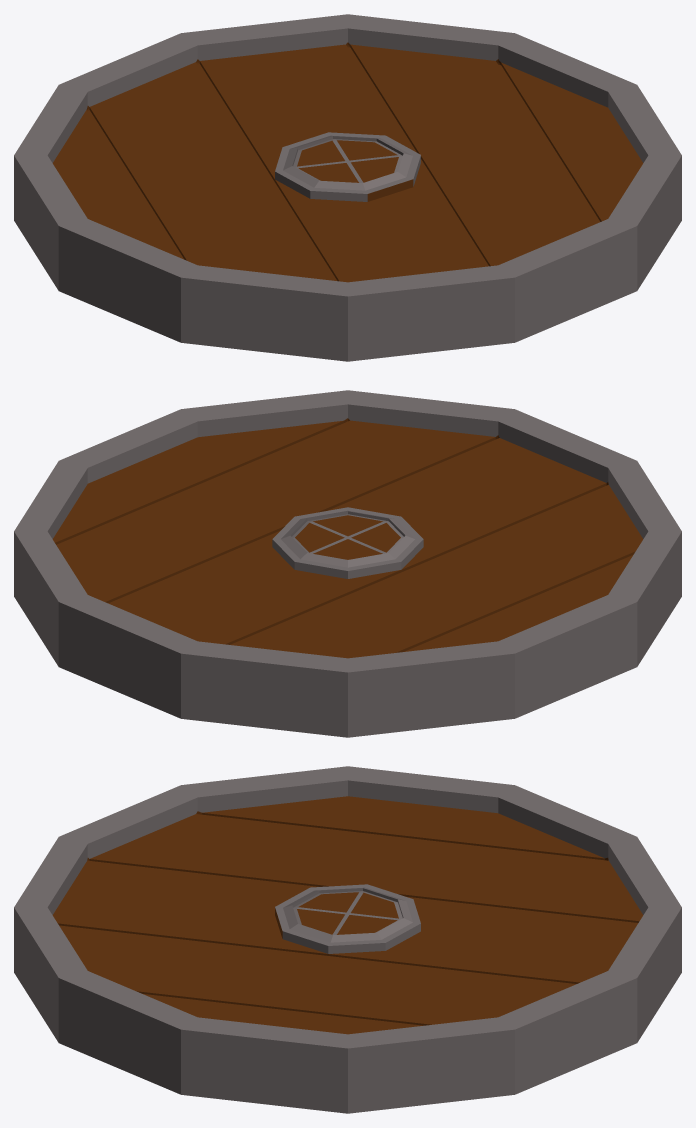
The model's file is Shield.fbx.
The picture shows the model from 3 angles, top to bottom: view 1: azimuth 30°, elevation 25°; view 2: azimuth 150°, elevation 25°; view 3: azimuth 270°, elevation 25°; orthographic projection.
Visible parts, largest first — view 1: Shield; view 2: Shield; view 3: Shield.
Boxes of the visible parts, <box> form: Shield: <box>14,14,681,361</box>; Shield: <box>14,390,681,737</box>; Shield: <box>14,766,681,1113</box>.
Size of the model in its own units: 0.65 by 0.65 by 0.1479.
